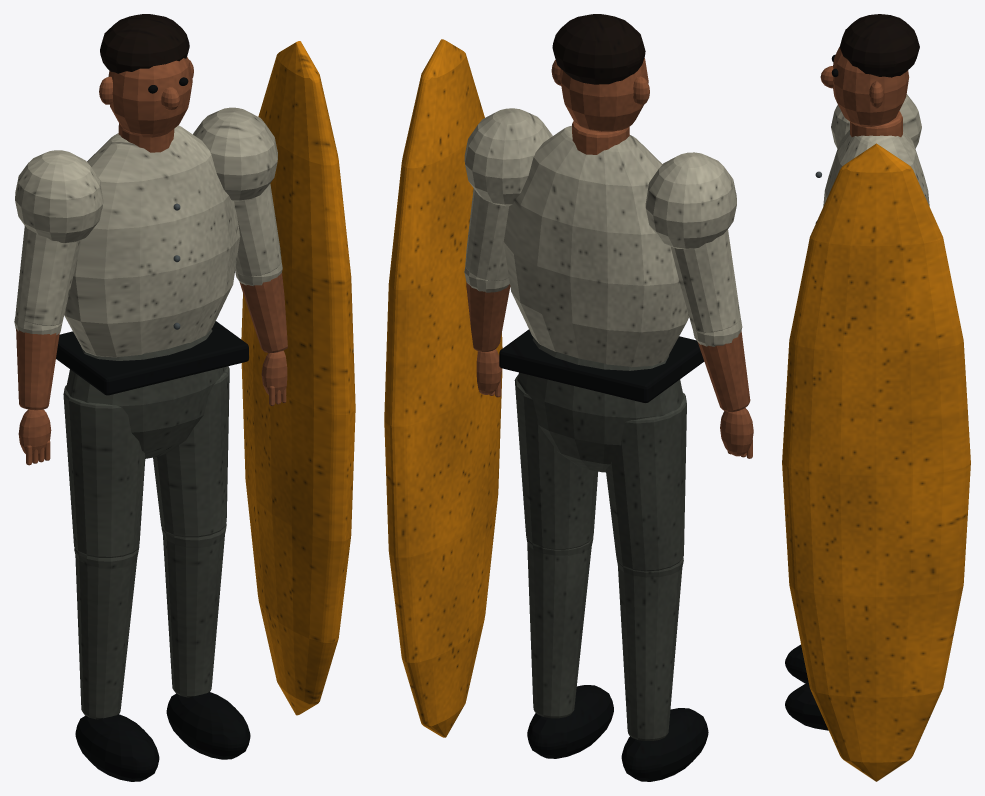
Rendered from PROP-C54FF15880B2_lod0.glb.
The picture shows the model from 3 angles, left to right: view 1: azimuth 30°, elevation 25°; view 2: azimuth 150°, elevation 25°; view 3: azimuth 270°, elevation 25°; orthographic projection. The views are drawn at different scales.
Parts seen in each view (by area): view 1: surfboard, torso.050, thigh.049, calf.049, shoulder.050, shoe.049, upper_arm.050, pelvis.049, belt.049, forearm.050, head.049, hair_cap.049 (+5 smaller); view 2: surfboard, torso.050, thigh.049, calf.049, shoulder.050, pelvis.049, upper_arm.050, shoe.049, belt.049, hair_cap.049, forearm.050, head.049 (+4 smaller); view 3: surfboard, hair_cap.049, head.049, torso.050, shoe.049, shoulder.050, neck.049.
Boxes of the visible parts, <box> form: surfboard: <box>241,41,355,715</box>; torso.050: <box>64,125,240,357</box>; thigh.049: <box>63,366,229,557</box>; calf.049: <box>75,535,224,719</box>; shoulder.050: <box>15,107,277,243</box>; shoe.049: <box>75,692,250,781</box>; upper_arm.050: <box>15,184,281,325</box>; pelvis.049: <box>66,329,226,458</box>; belt.049: <box>56,321,248,395</box>; forearm.050: <box>16,273,287,410</box>; head.049: <box>108,57,192,137</box>; hair_cap.049: <box>100,14,189,73</box>; surfboard: <box>384,39,502,737</box>; torso.050: <box>503,125,688,367</box>; thigh.049: <box>514,374,686,571</box>; calf.049: <box>527,543,682,740</box>; shoulder.050: <box>464,108,736,249</box>; pelvis.049: <box>517,337,683,472</box>; upper_arm.050: <box>465,188,740,332</box>; shoe.049: <box>527,685,708,781</box>; belt.049: <box>499,329,704,402</box>; hair_cap.049: <box>552,14,645,84</box>; forearm.050: <box>466,281,750,411</box>; head.049: <box>559,58,648,131</box>; surfboard: <box>782,143,970,781</box>; hair_cap.049: <box>839,14,919,77</box>; head.049: <box>833,47,909,126</box>; torso.050: <box>823,130,929,206</box>; shoe.049: <box>785,644,828,730</box>; shoulder.050: <box>831,94,921,148</box>; neck.049: <box>850,111,902,137</box>.
Size of the model in its own units: 0.8337 by 1.84 by 0.456.
Materials: 7 (7 with a texture image).
